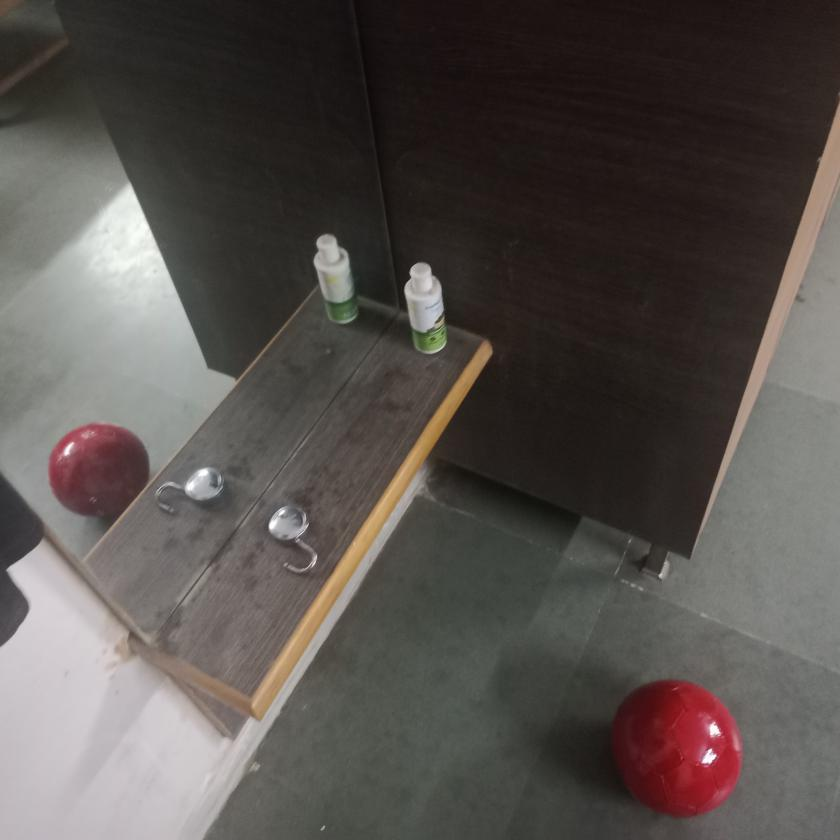Red_Ball: (592, 682, 753, 815), (41, 426, 153, 515)
